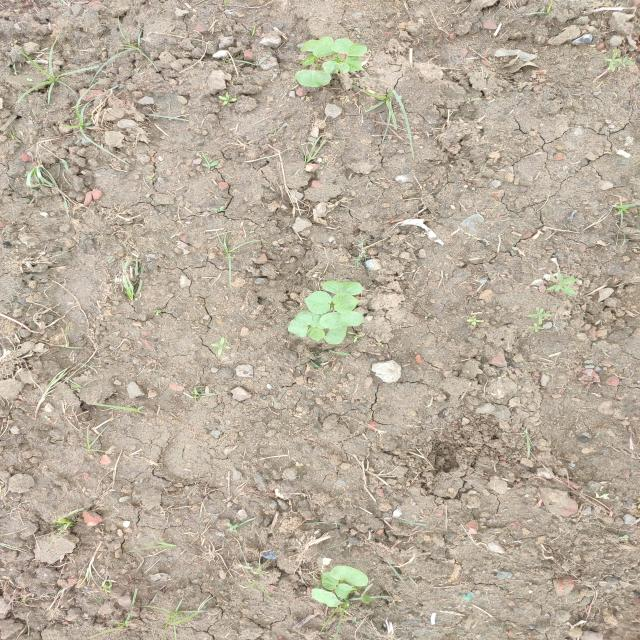seedling: (330, 565, 368, 587), (319, 311, 363, 329), (331, 38, 367, 57), (311, 588, 344, 608), (288, 311, 313, 337), (304, 291, 332, 314), (295, 70, 332, 87), (322, 280, 363, 295), (332, 293, 360, 313), (313, 36, 334, 56), (325, 327, 348, 344), (322, 61, 350, 74), (343, 56, 364, 72), (322, 571, 339, 590), (335, 584, 357, 598), (307, 327, 325, 342), (300, 39, 320, 52), (310, 312, 325, 329), (317, 48, 338, 58), (302, 54, 314, 66)
